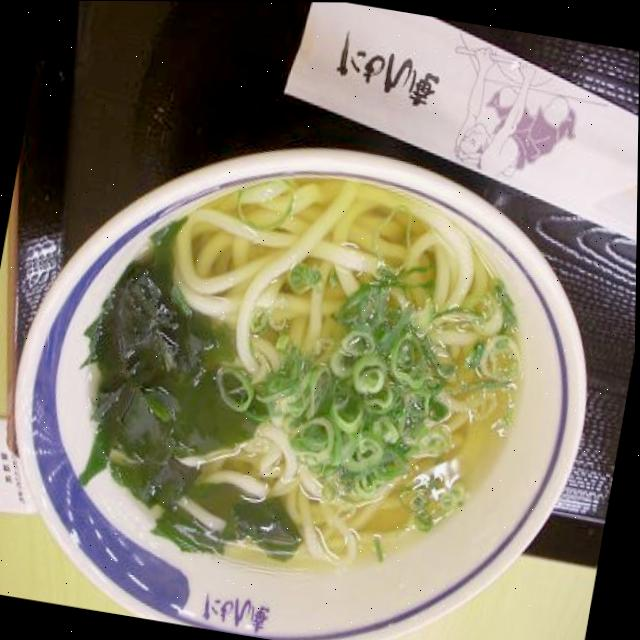面条主食: (0, 92, 593, 640)
